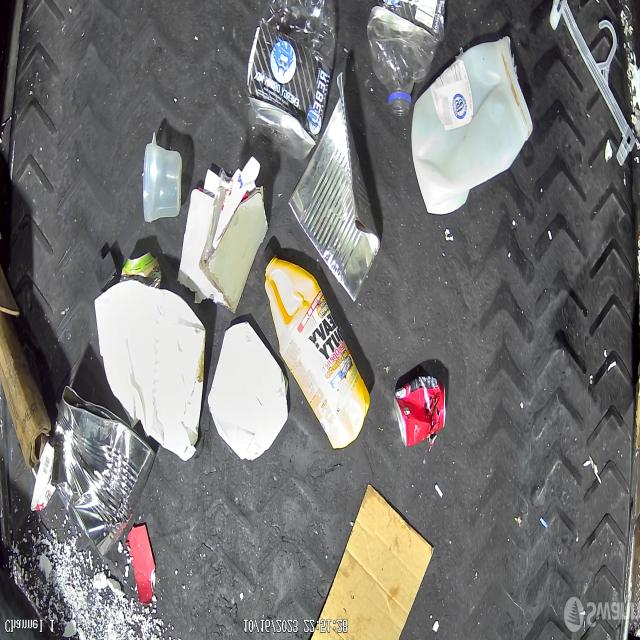can: (50, 386, 156, 558), (394, 376, 446, 450), (124, 252, 162, 284)
milk_jug: (411, 34, 533, 214)
non_white_jug: (260, 247, 367, 453)
plastic_bottle: (247, 1, 337, 162), (367, 0, 447, 116)
